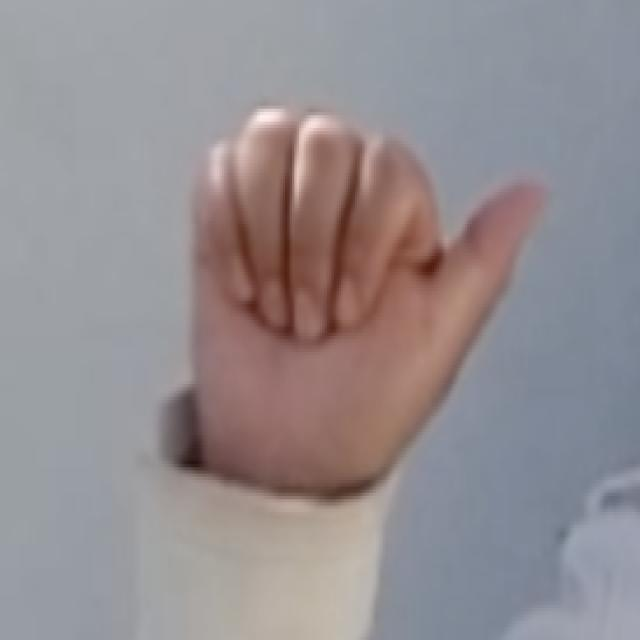A: (164, 90, 561, 483)
